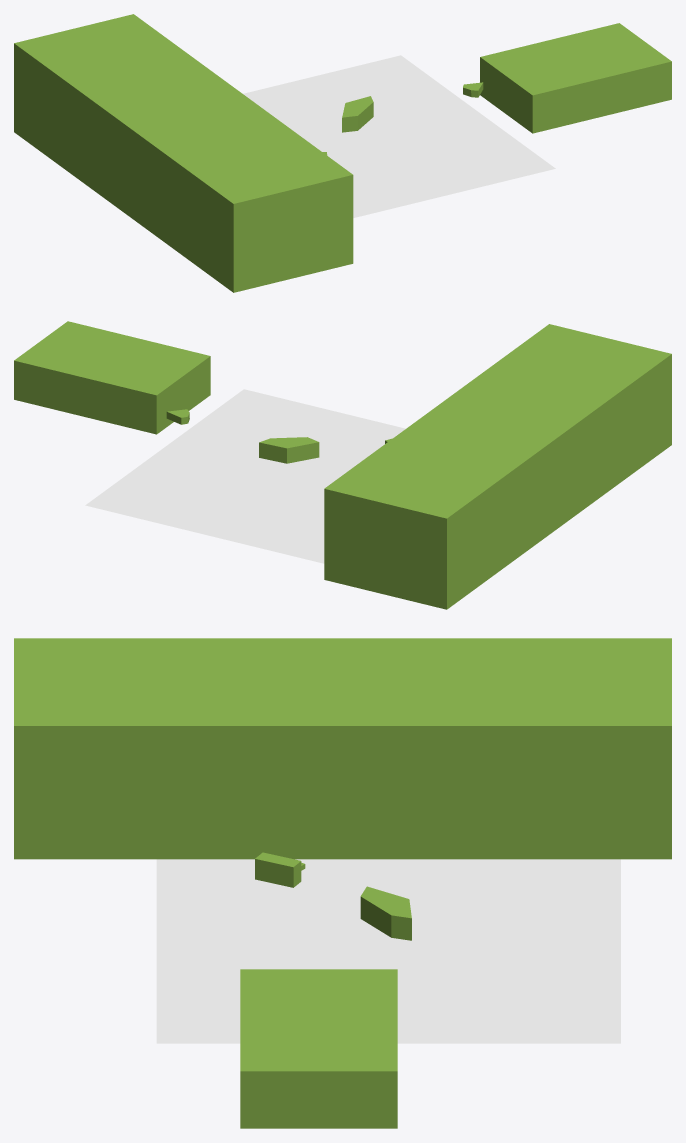
The model's file is sentwall_2_design.fbx.
3 renders of one model, top to bottom at view 1: azimuth 30°, elevation 25°; view 2: azimuth 150°, elevation 25°; view 3: azimuth 270°, elevation 25°, orthographic. The views are drawn at different scales.
Parts seen in each view (by area): view 1: rain_blocker:weatherocclude, fog:plane; view 2: rain_blocker:weatherocclude, fog:plane; view 3: rain_blocker:weatherocclude, fog:plane.
Boxes of the visible parts, x1,y1,x2,y2 form: rain_blocker:weatherocclude: [14, 14, 671, 292]; fog:plane: [243, 55, 555, 217]; rain_blocker:weatherocclude: [14, 321, 671, 609]; fog:plane: [85, 389, 405, 563]; rain_blocker:weatherocclude: [14, 638, 671, 1128]; fog:plane: [156, 859, 620, 1043].
Bounding box in the file's own units: 9294 × 12558 × 2098.
